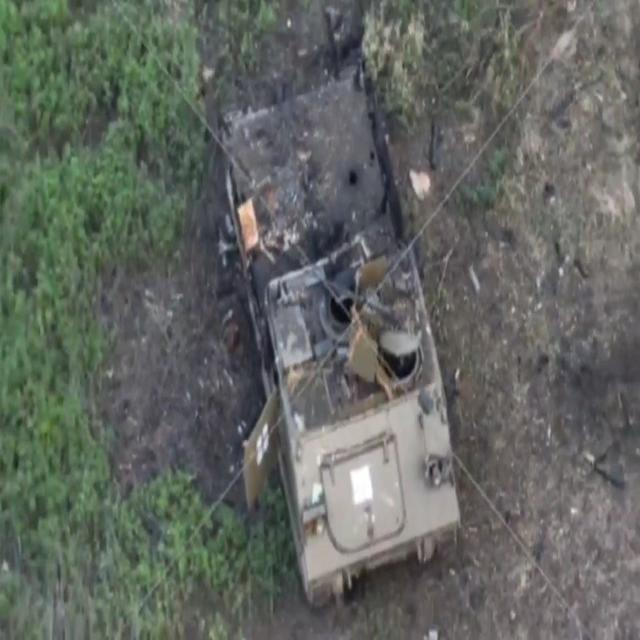APC: (218, 52, 467, 617)
